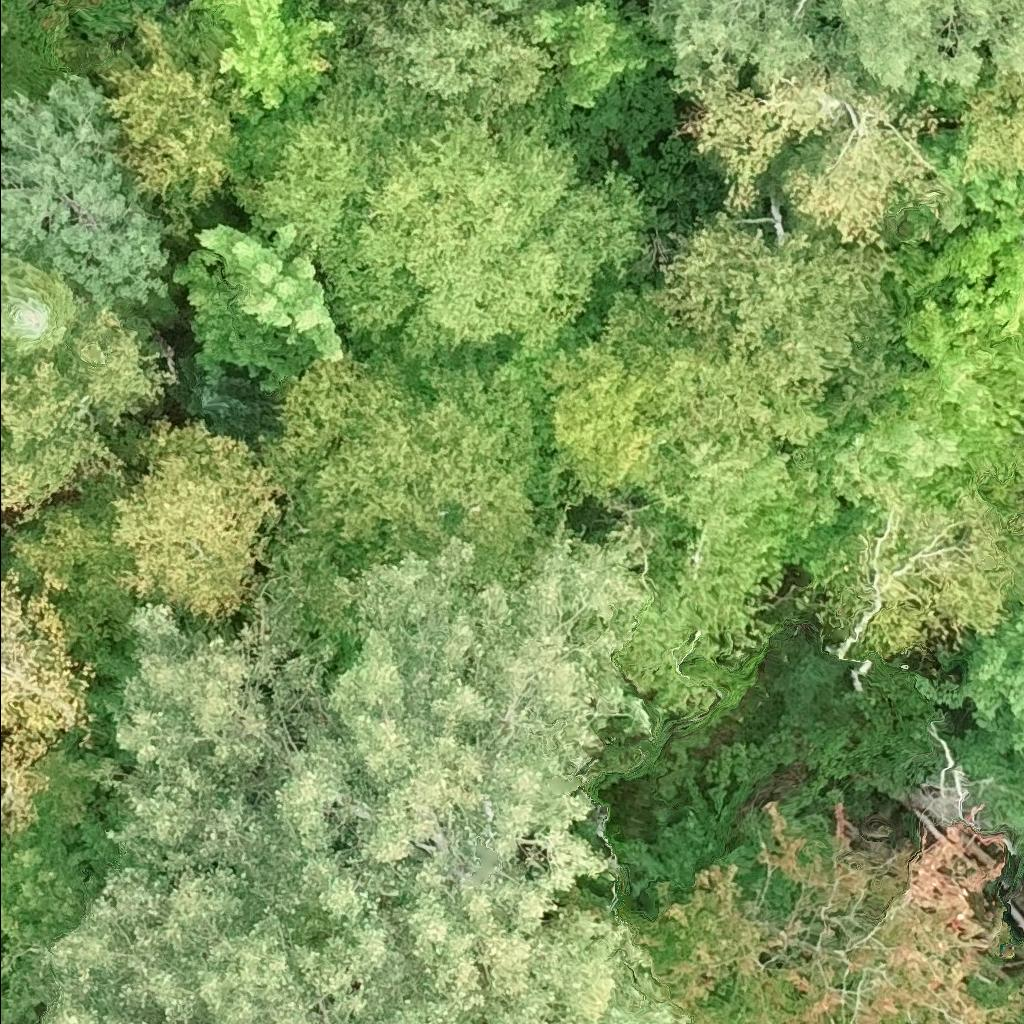crown: (91, 536, 695, 1023), (252, 348, 561, 683), (311, 102, 650, 364), (210, 0, 499, 265), (679, 807, 1023, 1023), (544, 283, 830, 502), (605, 438, 827, 698), (784, 305, 1023, 541), (683, 74, 965, 250), (657, 224, 907, 407), (23, 875, 322, 1023), (651, 0, 1023, 109), (0, 71, 171, 307), (0, 304, 174, 510), (817, 490, 1023, 662), (116, 424, 280, 619), (103, 15, 248, 229), (0, 482, 166, 664), (0, 757, 128, 984), (176, 222, 343, 390), (910, 155, 1023, 371), (0, 573, 89, 837), (368, 0, 555, 111), (630, 878, 772, 1023), (189, 0, 336, 107), (169, 340, 284, 459), (959, 610, 1023, 816), (0, 260, 86, 357), (953, 67, 1023, 177), (391, 1004, 458, 1023), (0, 18, 10, 41), (492, 0, 523, 6), (17, 1016, 33, 1023), (519, 1021, 541, 1023), (0, 64, 3, 71)
